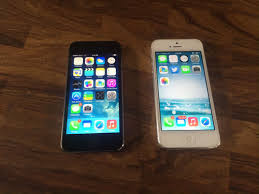iphone: (147, 34, 221, 155)
iphone5: (147, 33, 221, 154)
